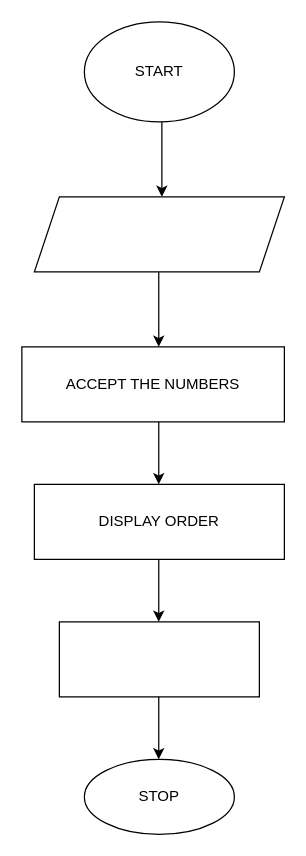
Some shapes in this 306 by 856 pixel diagram are drawn without their labels. The shapes that lost their labels are listed below. From the top down, each one's centre as x and y in pixels, then its label:
At point 158,234: "INPUT 1,2,3".
At point 158,659: "DISPLAY 1,2,3".
